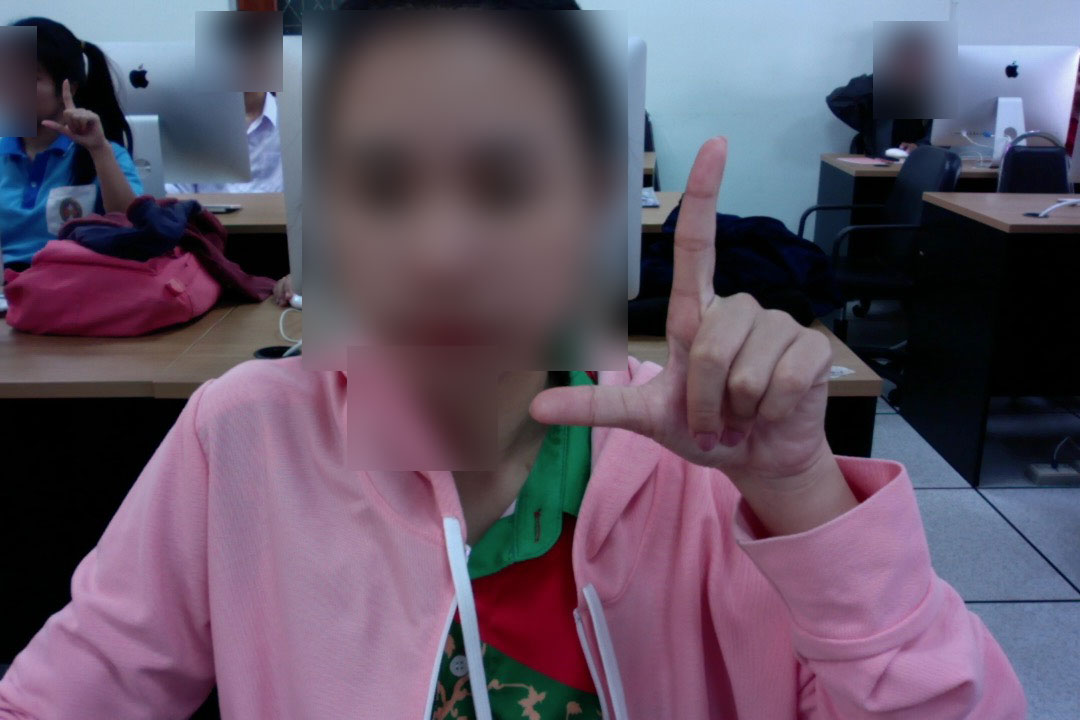lor: (513, 125, 869, 493)
